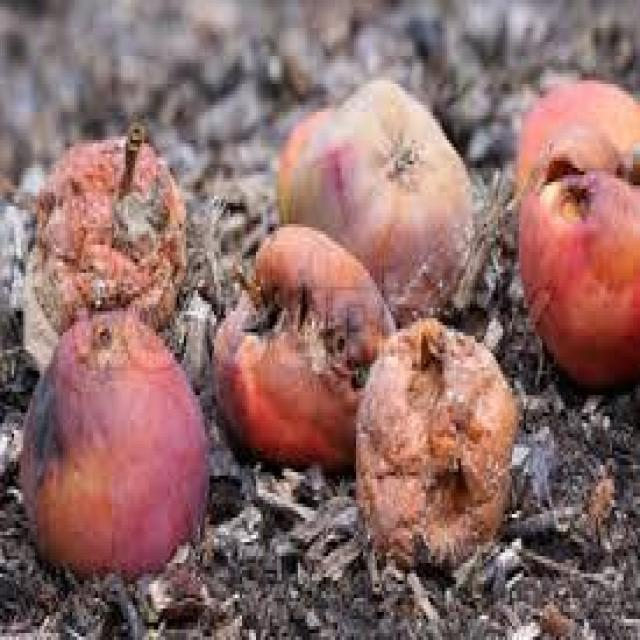maca: (17, 304, 210, 577), (274, 73, 474, 322), (210, 220, 396, 469), (354, 315, 519, 570), (21, 119, 188, 367), (516, 164, 638, 385), (512, 73, 638, 203)
